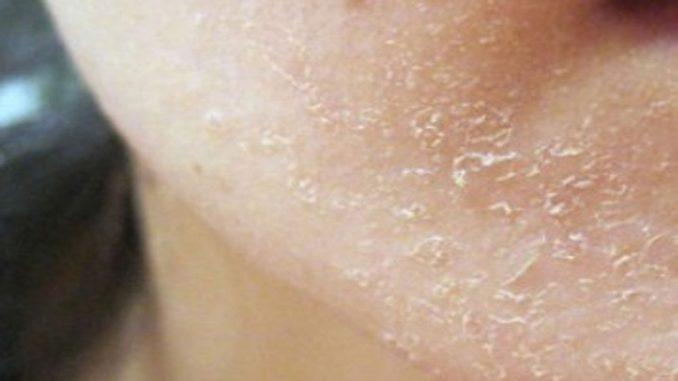Dry-Skin: (131, 0, 678, 209), (338, 127, 678, 381)
